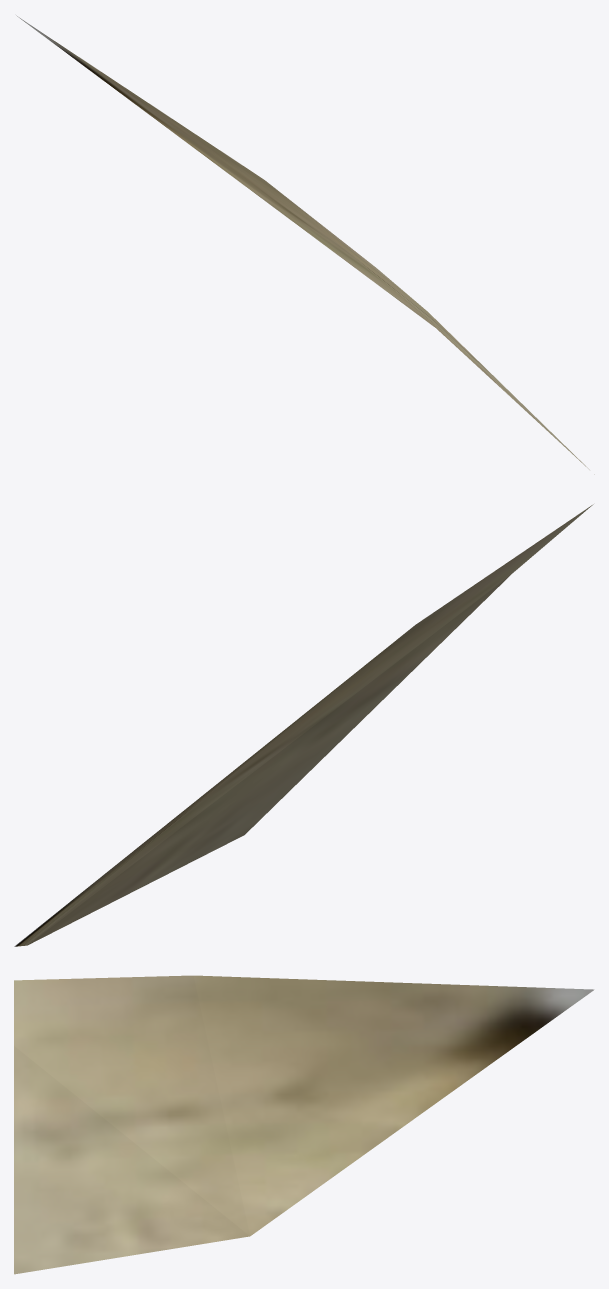
3 views of the same model, one above another, from view 1: azimuth 30°, elevation 25°; view 2: azimuth 150°, elevation 25°; view 3: azimuth 270°, elevation 25° (orthographic). The views are drawn at different scales.
Size of the model in its own units: 0.3211 by 0.3742 by 0.9226.
1 material, 1 textured.
